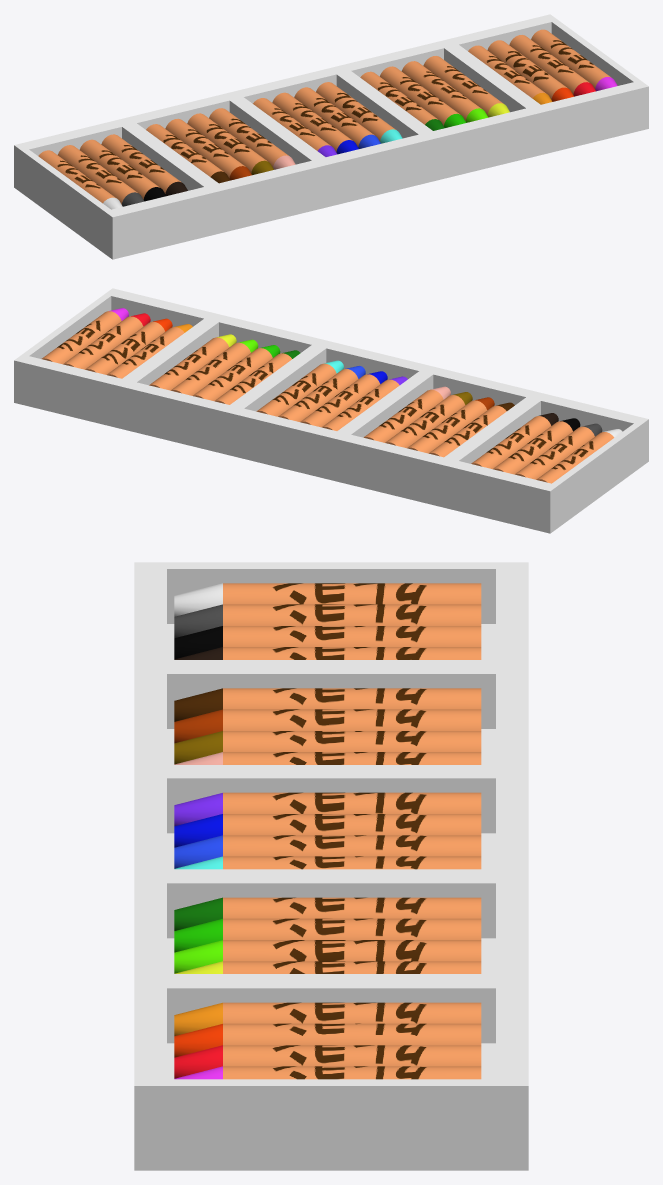
The model's file is crayon.fbx.
3 renders of one model, top to bottom at view 1: azimuth 30°, elevation 25°; view 2: azimuth 150°, elevation 25°; view 3: azimuth 270°, elevation 25°, orthographic. The views are drawn at different scales.
Parts seen in each view (by area): view 1: crayon21; view 2: crayon21; view 3: crayon21.
Boxes of the visible parts, bbox=[...] form: crayon21: bbox=[14, 14, 648, 259]; crayon21: bbox=[14, 288, 648, 533]; crayon21: bbox=[134, 562, 528, 1170].
Size of the model in its own units: 37.68 by 2.84 by 12.
1 material, 1 textured.
